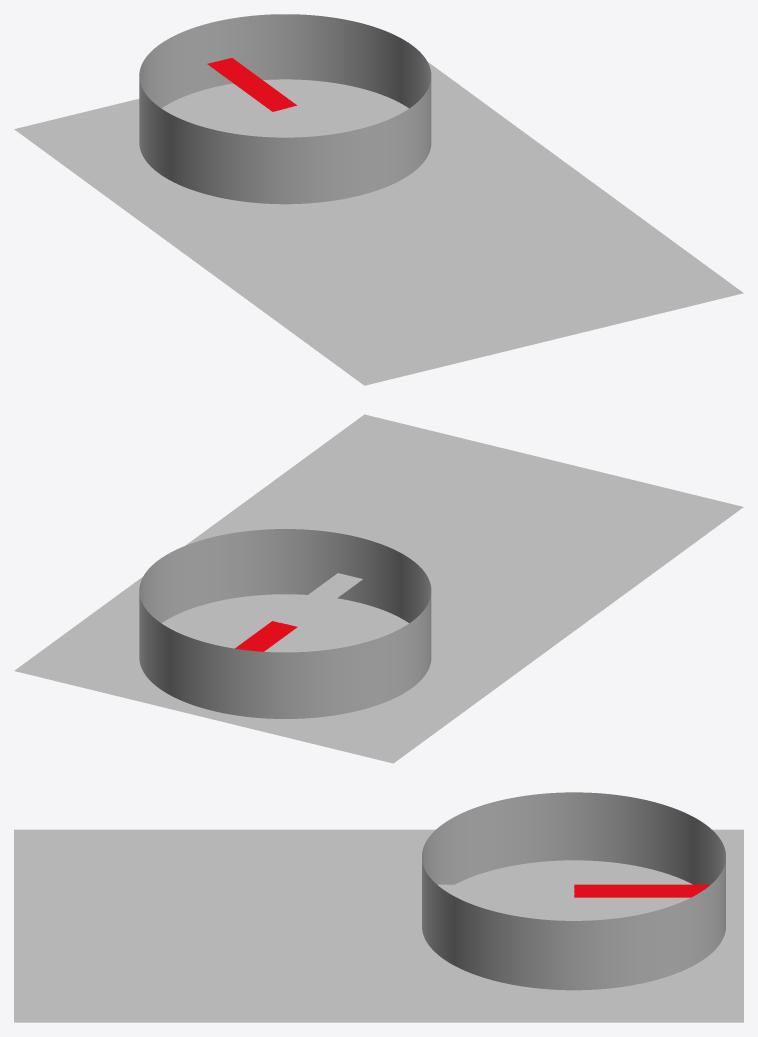
File: Compass.fbx
The picture shows the model from 3 angles, top to bottom: view 1: azimuth 30°, elevation 25°; view 2: azimuth 150°, elevation 25°; view 3: azimuth 270°, elevation 25°; orthographic projection. The views are drawn at different scales.
Visible parts, largest first — view 1: Plate, compassBox, bottom, needleRed, needleWhite; view 2: Plate, compassBox, bottom, needleWhite, needleRed; view 3: Plate, compassBox, bottom, needleWhite, needleRed.
Boxes of the visible parts, x1,y1,x2,y2 form: Plate: [14, 62, 743, 385]; compassBox: [139, 14, 431, 203]; bottom: [139, 79, 431, 204]; needleRed: [207, 58, 296, 111]; needleWhite: [273, 105, 335, 136]; Plate: [14, 414, 743, 763]; compassBox: [139, 529, 431, 718]; bottom: [139, 594, 431, 718]; needleWhite: [273, 573, 362, 626]; needleRed: [235, 621, 297, 651]; Plate: [14, 829, 743, 1022]; compassBox: [422, 792, 725, 989]; bottom: [422, 860, 725, 990]; needleWhite: [438, 884, 574, 897]; needleRed: [574, 884, 710, 897].
Size of the model in its own units: 30 by 5.05 by 48.
